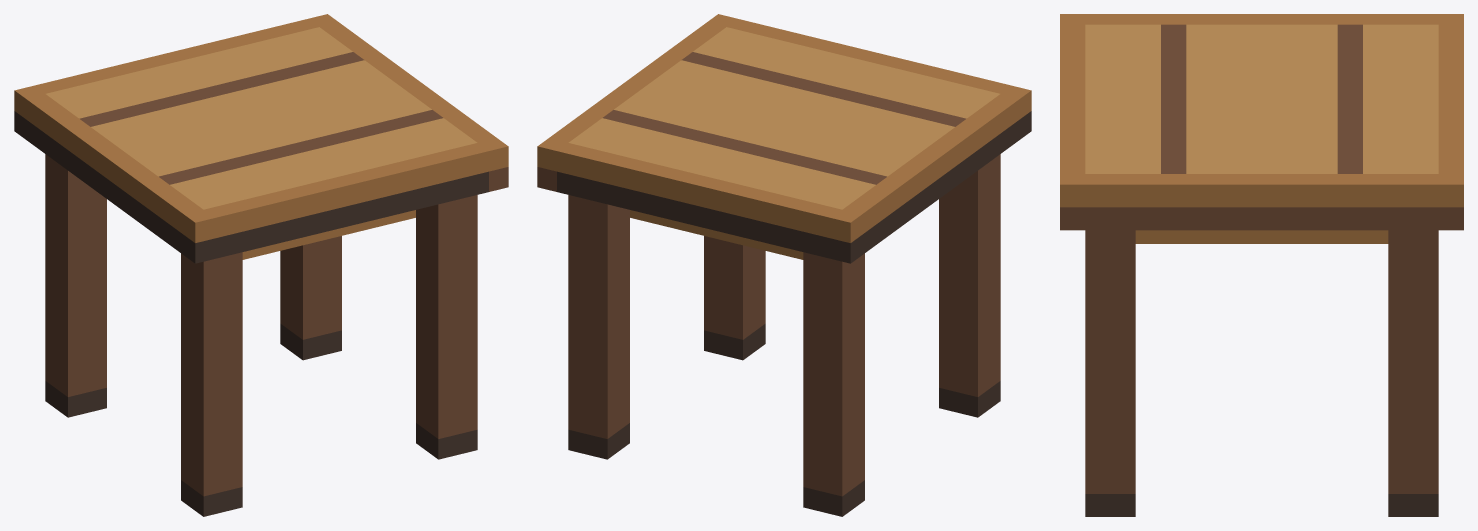
The picture shows the model from 3 angles, left to right: view 1: azimuth 30°, elevation 25°; view 2: azimuth 150°, elevation 25°; view 3: azimuth 270°, elevation 25°; orthographic projection. The views are drawn at different scales.
Parts seen in each view (by area): view 1: wood_geometry, oak_light_geometry, oak_geometry, wood_dark_geometry; view 2: wood_geometry, oak_light_geometry, oak_geometry, wood_dark_geometry; view 3: oak_light_geometry, wood_geometry, oak_geometry, wood_dark_geometry.
Part boxes in pixels (x1,y1,x2,y2): wood_geometry: [45, 52, 508, 496]; oak_light_geometry: [46, 27, 477, 209]; oak_geometry: [14, 14, 508, 259]; wood_dark_geometry: [14, 111, 488, 516]; wood_geometry: [537, 52, 1000, 496]; oak_light_geometry: [568, 27, 999, 209]; oak_geometry: [537, 14, 1031, 259]; wood_dark_geometry: [557, 111, 1031, 516]; oak_light_geometry: [1085, 24, 1438, 173]; wood_geometry: [1060, 24, 1463, 493]; oak_geometry: [1060, 14, 1463, 243]; wood_dark_geometry: [1085, 494, 1438, 516].
Bounding box in the file's own units: 0.8 × 0.75 × 0.8.
